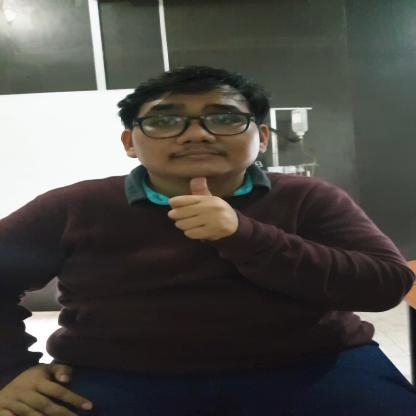Siapa: (166, 168, 244, 240)
